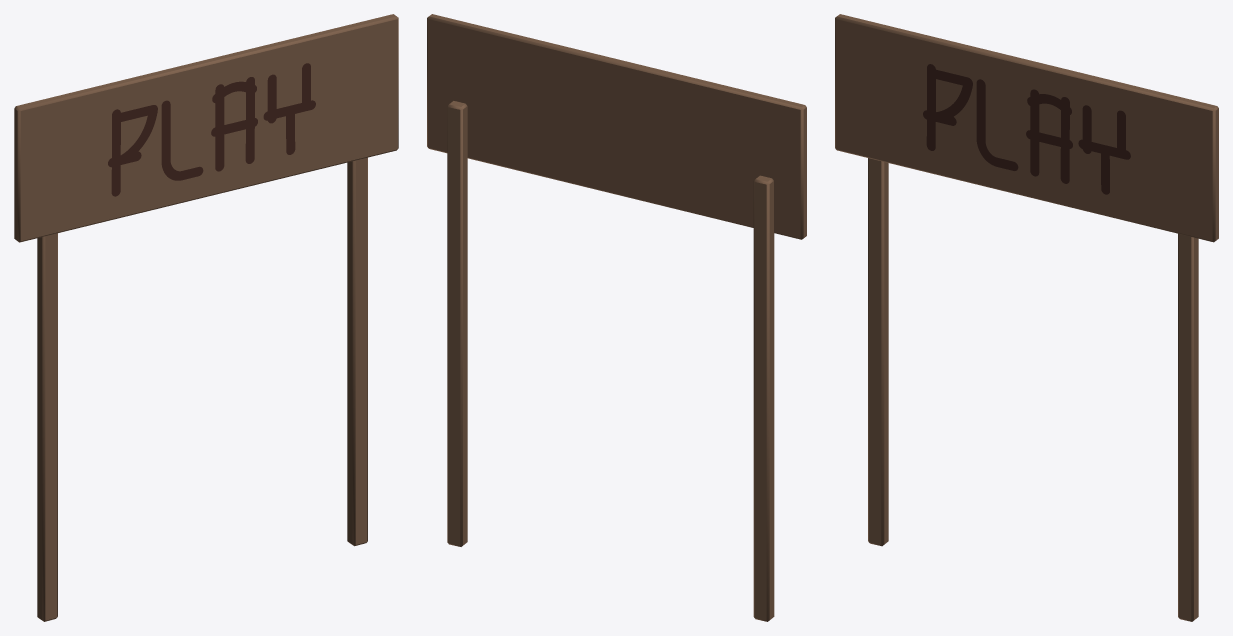
The model's file is sign_play01.fbx.
3 renders of one model, left to right at view 1: azimuth 30°, elevation 25°; view 2: azimuth 150°, elevation 25°; view 3: azimuth 330°, elevation 25°, orthographic.
Visible parts, largest first — view 1: sign_play01; view 2: sign_play01; view 3: sign_play01.
Boxes of the visible parts, x1,y1,x2,y2 form: sign_play01: [14, 14, 398, 621]; sign_play01: [427, 14, 806, 621]; sign_play01: [835, 14, 1218, 621].
Size of the model in its own units: 92.94 by 122 by 4.88.
